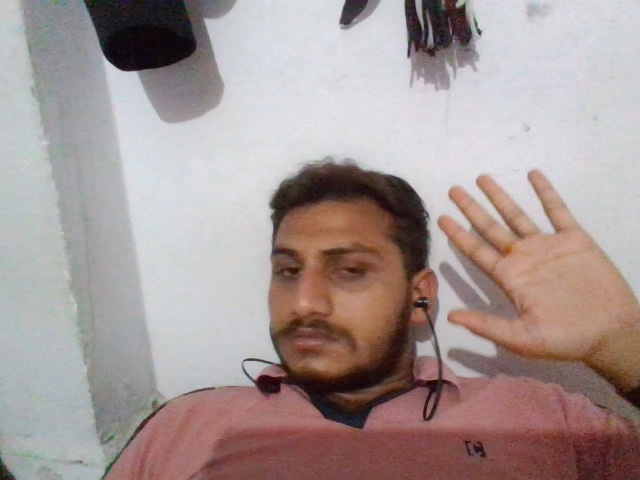Hello: (434, 168, 640, 383)
